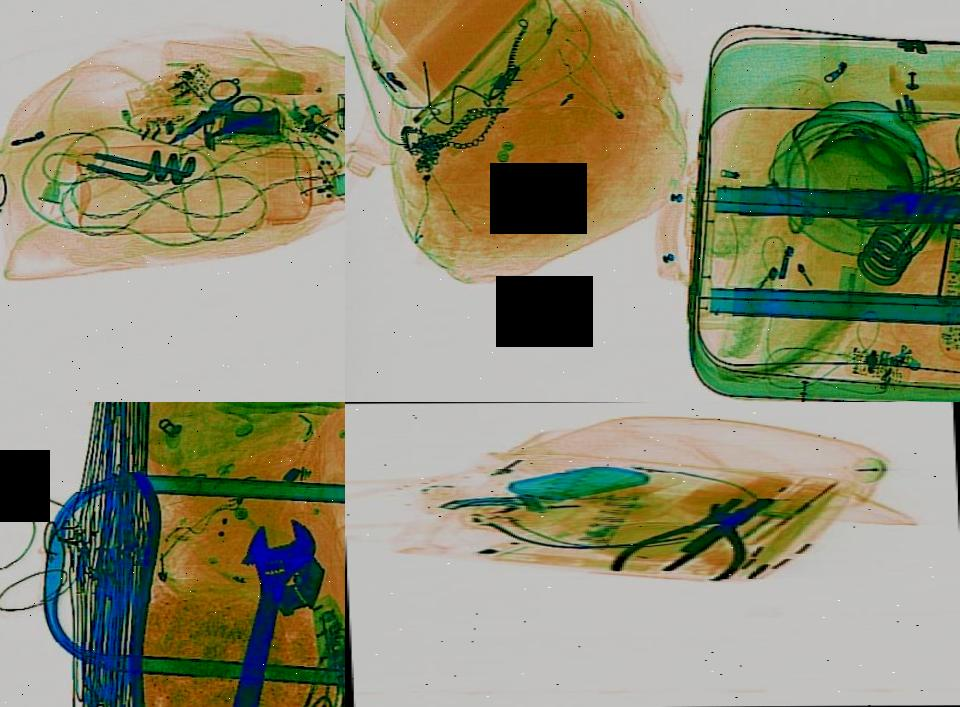Pliers: (595, 480, 804, 593)
Scissors: (156, 60, 264, 164)
Wrench: (197, 512, 326, 707)
